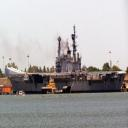Portanaves: (4, 22, 128, 97)
